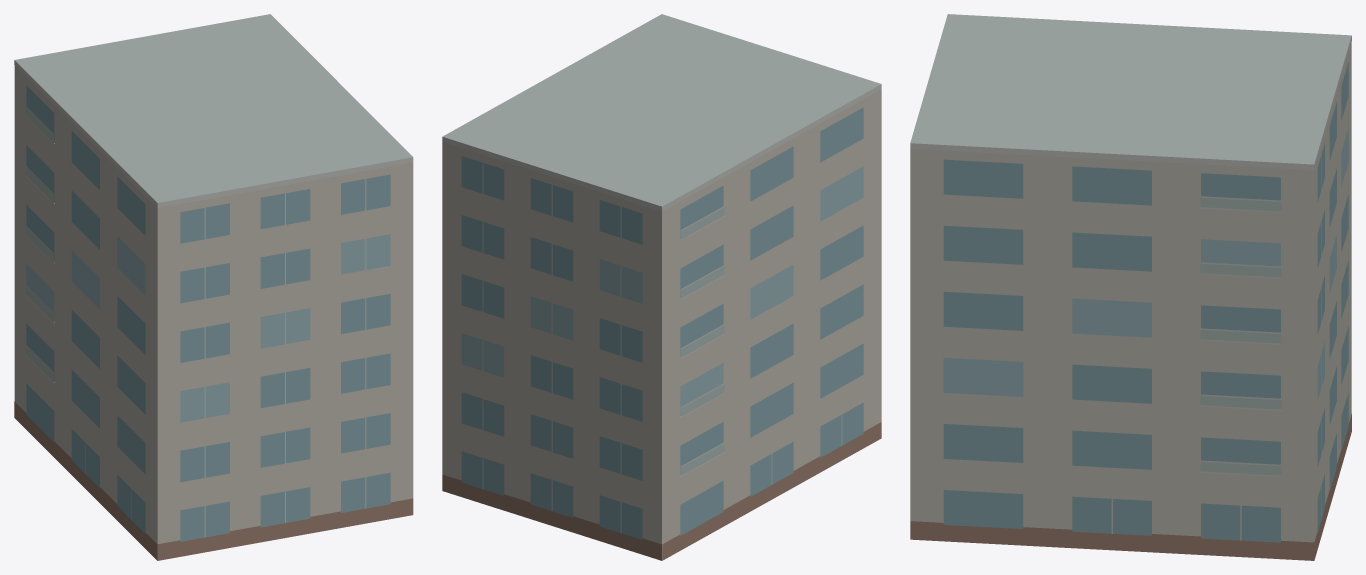
Rendered from survey-upis-32659124.glb.
3 renders of one model, left to right at view 1: azimuth 30°, elevation 25°; view 2: azimuth 150°, elevation 25°; view 3: azimuth 270°, elevation 25°, orthographic. The views are drawn at different scales.
Parts seen in each view (by area): view 1: survey-upis-32659124.tmp; view 2: survey-upis-32659124.tmp; view 3: survey-upis-32659124.tmp.
Boxes of the visible parts, <box> form: survey-upis-32659124.tmp: <box>14,14,413,560</box>; survey-upis-32659124.tmp: <box>442,14,881,560</box>; survey-upis-32659124.tmp: <box>910,14,1351,560</box>.
Size of the model in its own units: 14.01 by 17.2 by 17.38.
